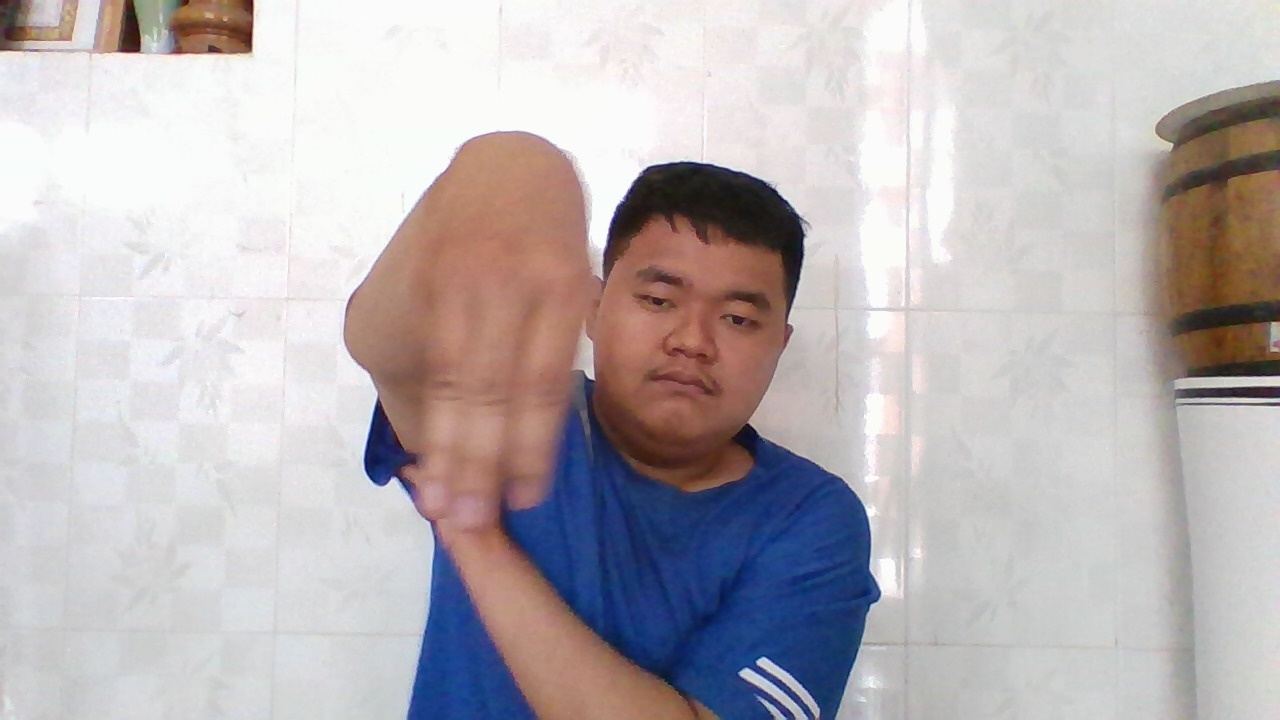M: (403, 139, 590, 539)
